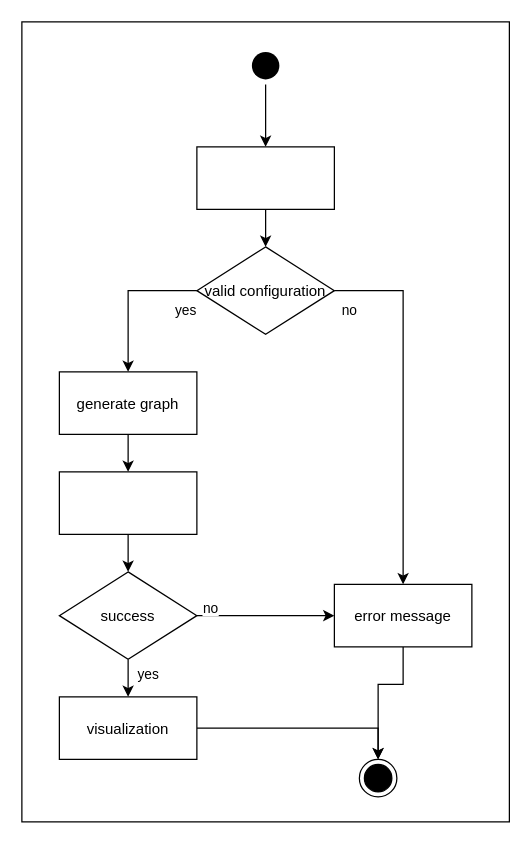
Image size: 531x844. Some labels were removed from this diagram. The shapes that lost their labels are listed below. From the top down, each one's centre as x and y in pixels, then its label:
(x=265, y=177): load config file
(x=127, y=502): plan path
